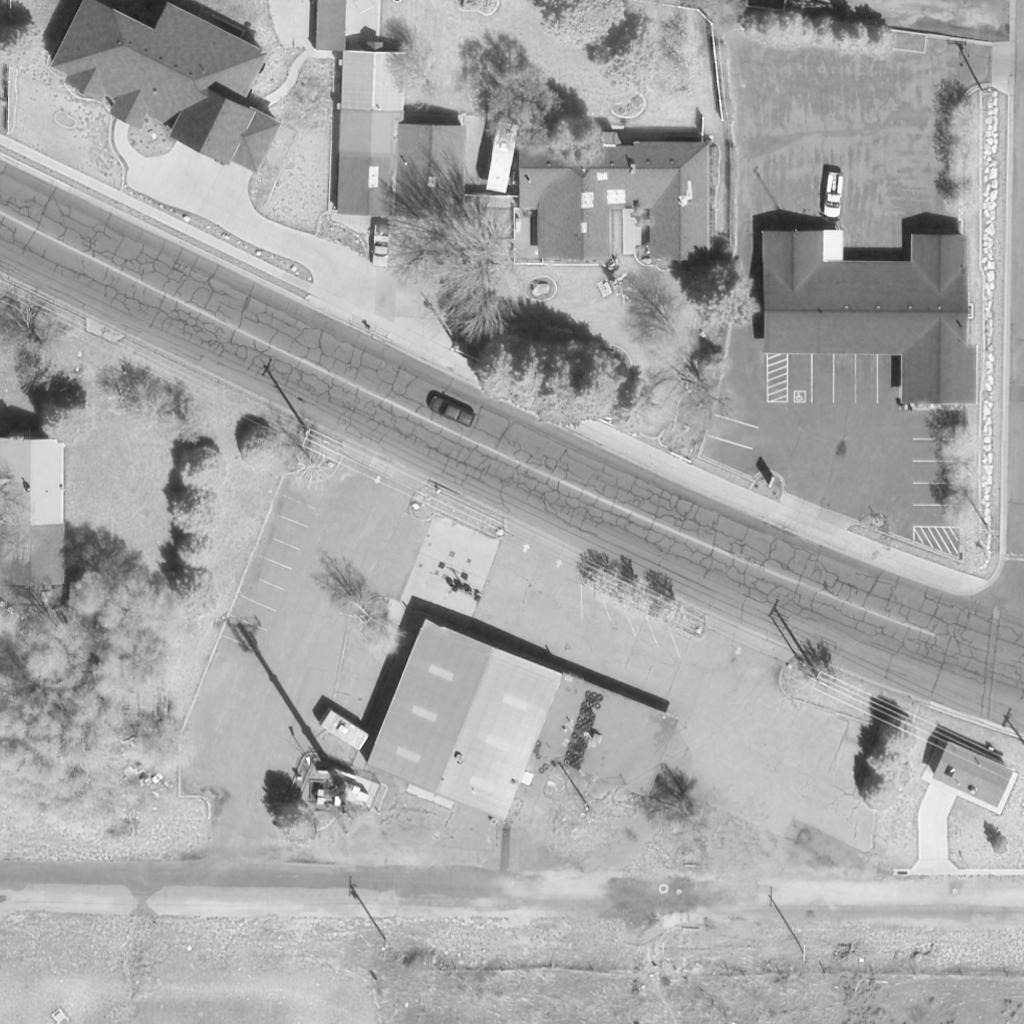vehicle: (490, 121, 518, 195), (321, 710, 369, 750), (424, 393, 478, 427), (820, 171, 844, 219), (369, 219, 391, 265)
